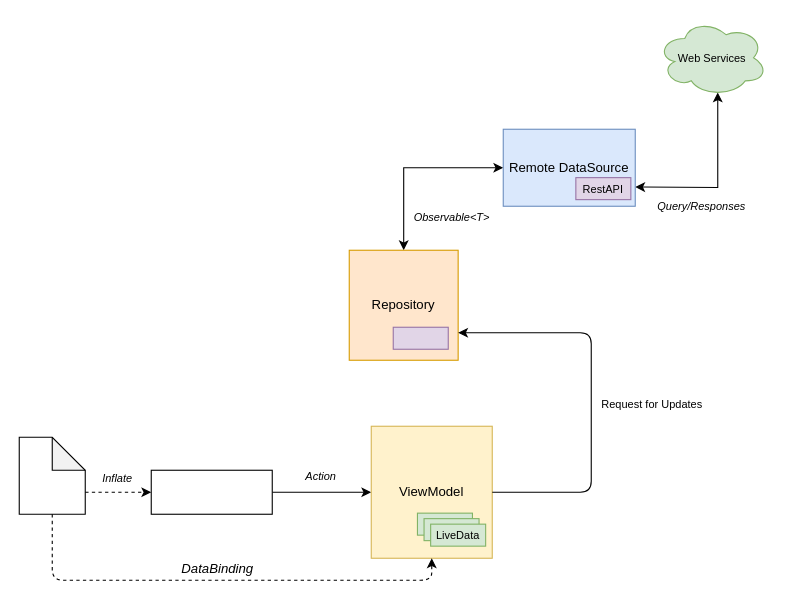
The diagram is 787 pixels wide and 608 high, and some of its shapes have lost their labels. Here are the shapes that lost their labels. From the top down, the centre of each, then its label:
At point 420,337: "DataClass".
At point 51,475: "XML".
At point 211,491: "Activity/Fragment".
